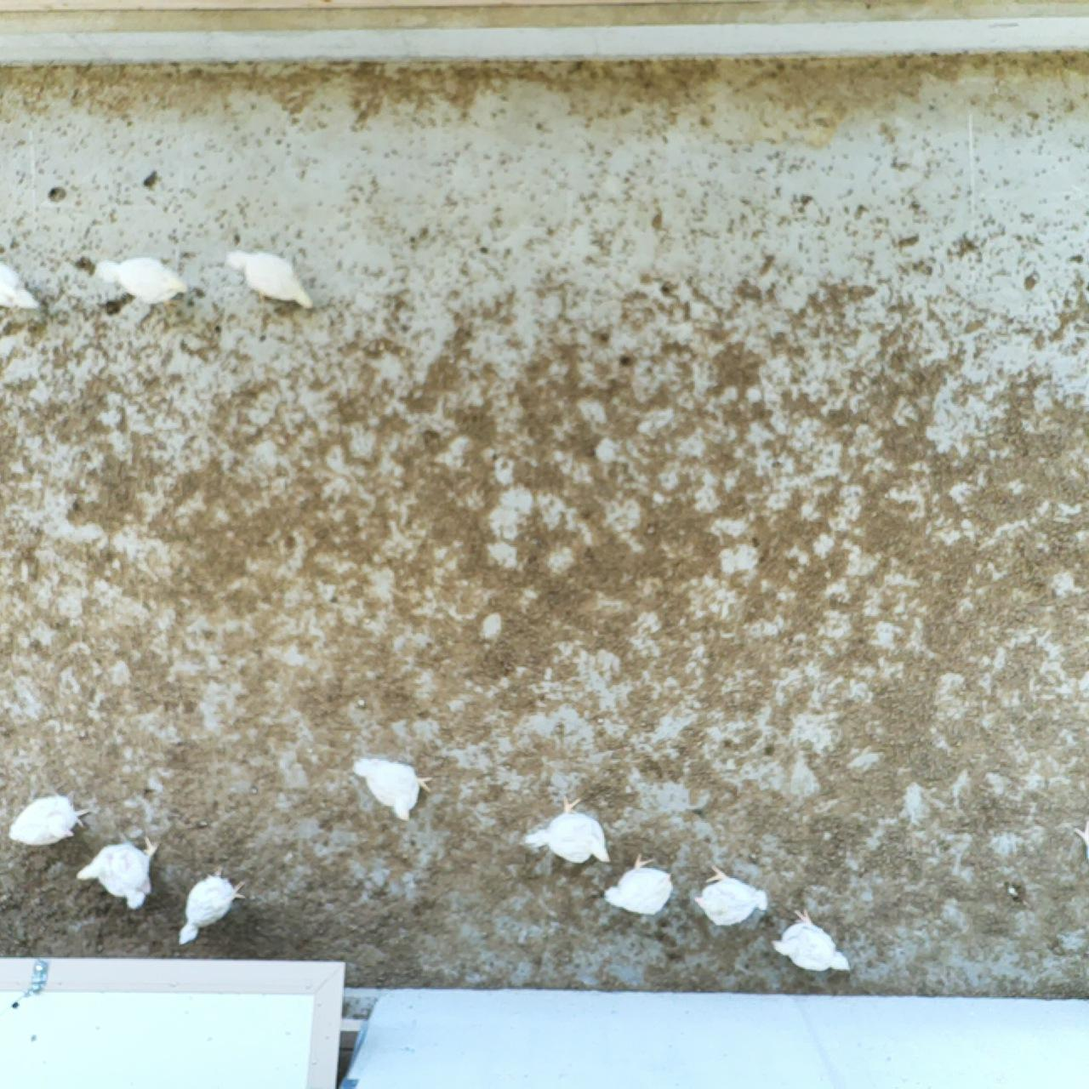chicken: (74, 827, 163, 911), (525, 790, 614, 872), (764, 905, 856, 975), (171, 864, 248, 945), (224, 245, 317, 312), (352, 754, 436, 826), (91, 250, 191, 309), (3, 789, 98, 848), (601, 849, 681, 916), (696, 861, 773, 928), (0, 255, 51, 312)
